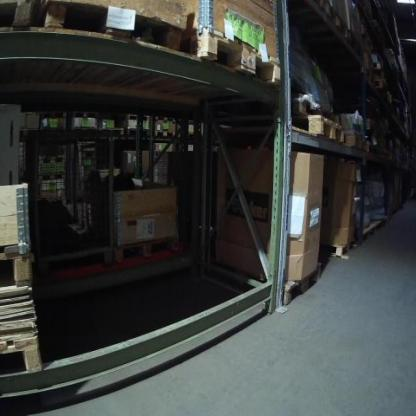pallet: (43, 0, 184, 50), (185, 31, 283, 87), (115, 234, 178, 264), (0, 333, 46, 373), (291, 112, 346, 144), (283, 262, 321, 304), (0, 244, 35, 287), (324, 1, 351, 41), (322, 242, 356, 258), (125, 112, 150, 122), (126, 127, 151, 137), (154, 117, 176, 124), (155, 131, 174, 138)
stillage: (25, 126, 113, 264)
